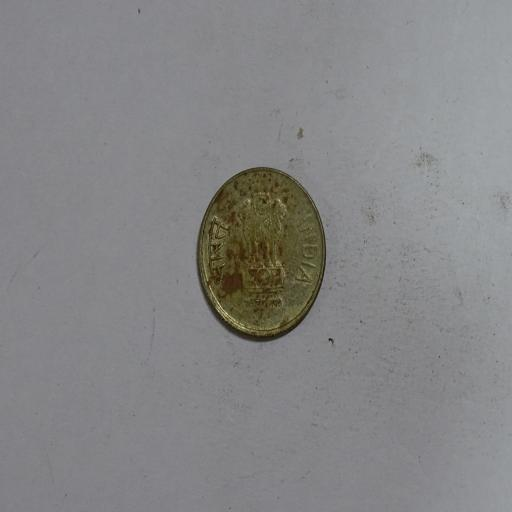rupee5: (192, 165, 327, 344)
